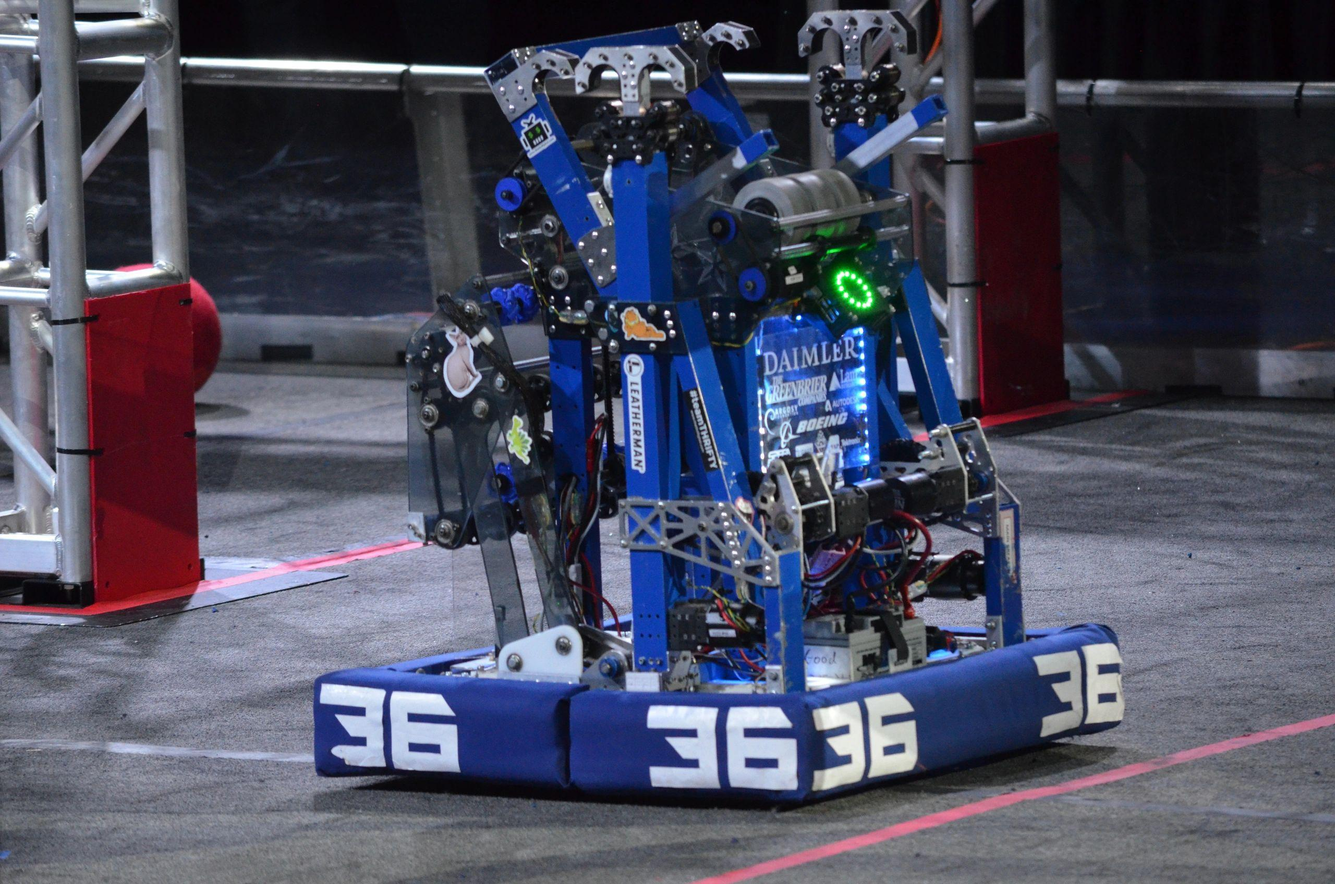robot: (306, 5, 1137, 808)
